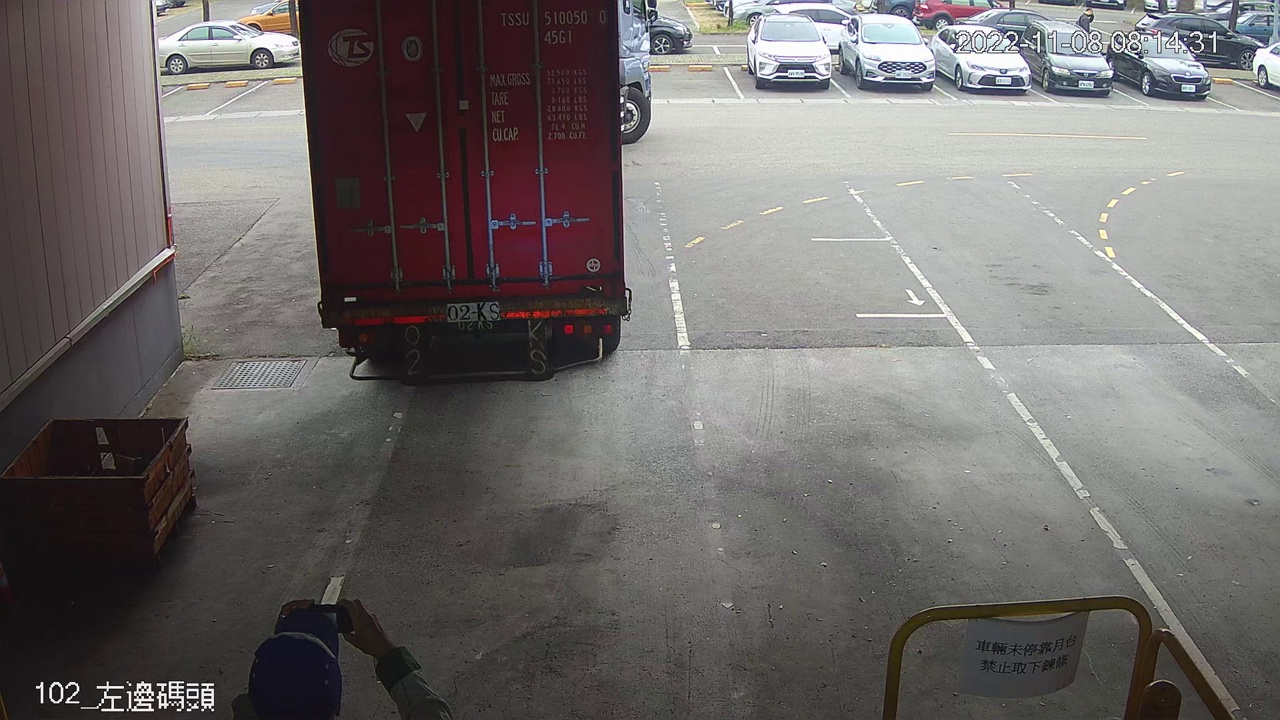container: (496, 4, 612, 49)
